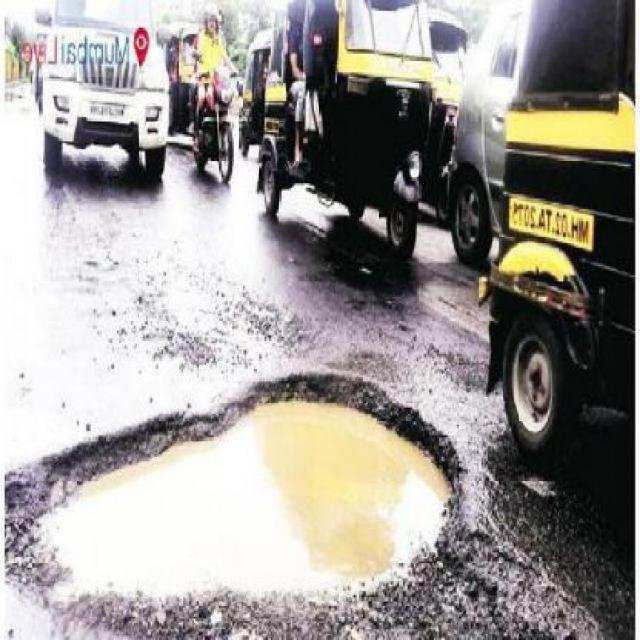pothole: (4, 368, 468, 639)
